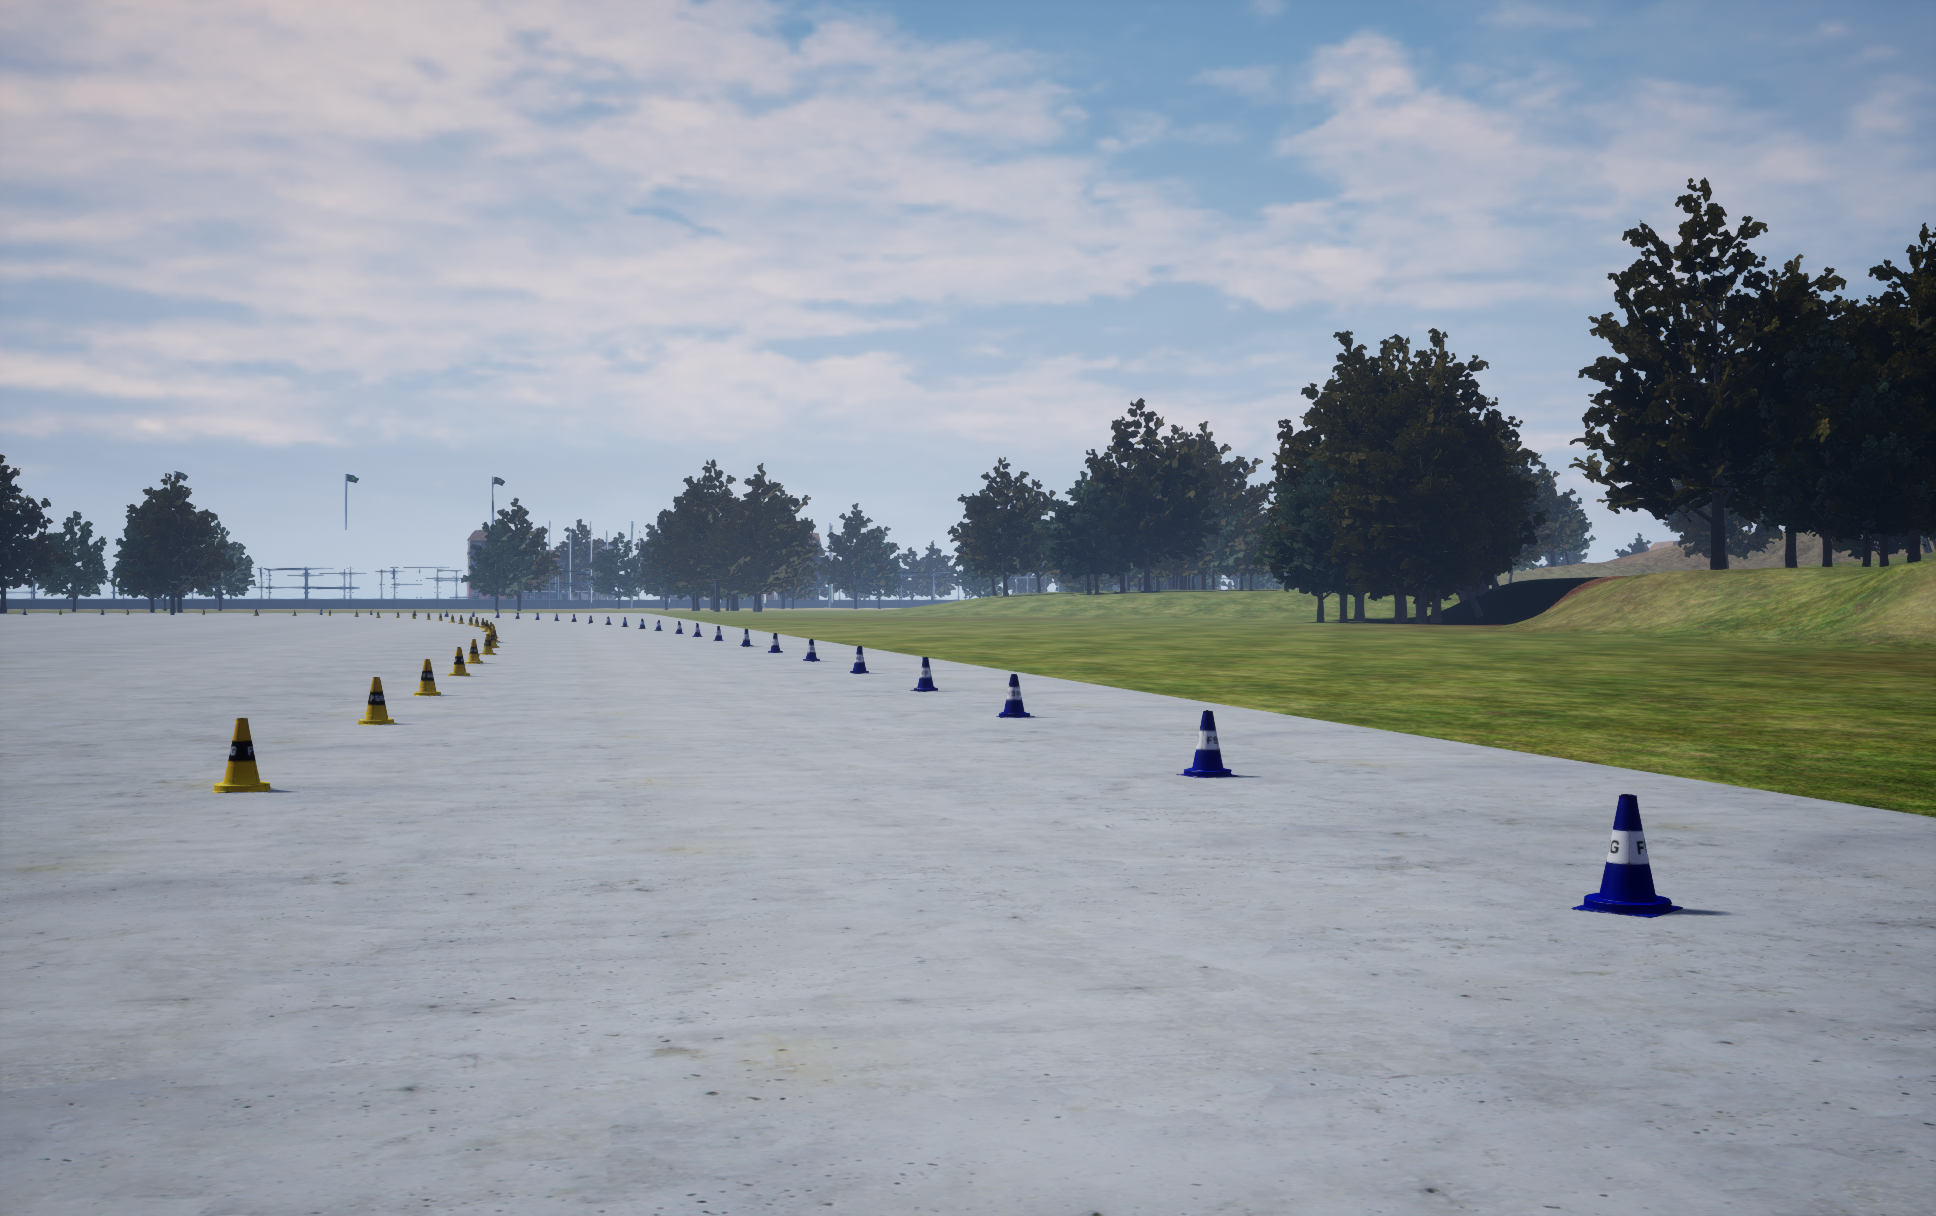blue: (212, 719, 270, 792), (357, 677, 396, 724), (415, 658, 440, 695), (448, 647, 471, 675), (465, 639, 482, 663), (479, 635, 496, 654)
yellow: (1570, 794, 1682, 918), (1175, 710, 1238, 778), (996, 674, 1034, 717), (911, 657, 937, 691), (850, 646, 869, 672), (803, 637, 820, 661), (768, 633, 782, 651)
